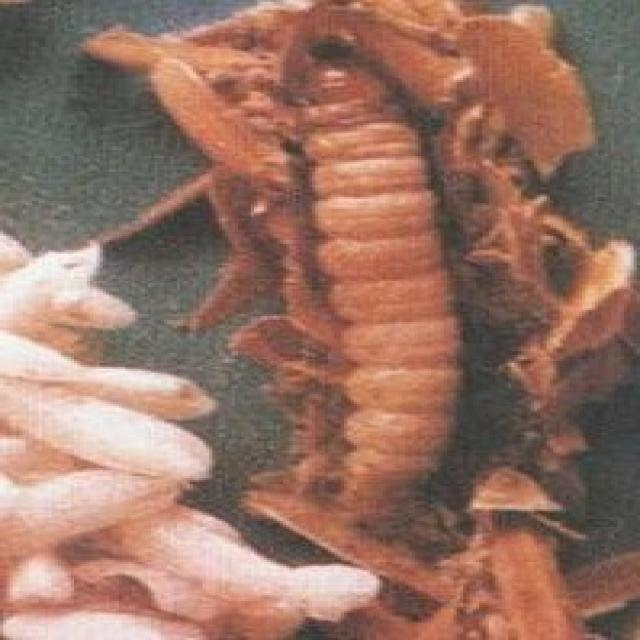peach borer: (307, 47, 455, 529)
